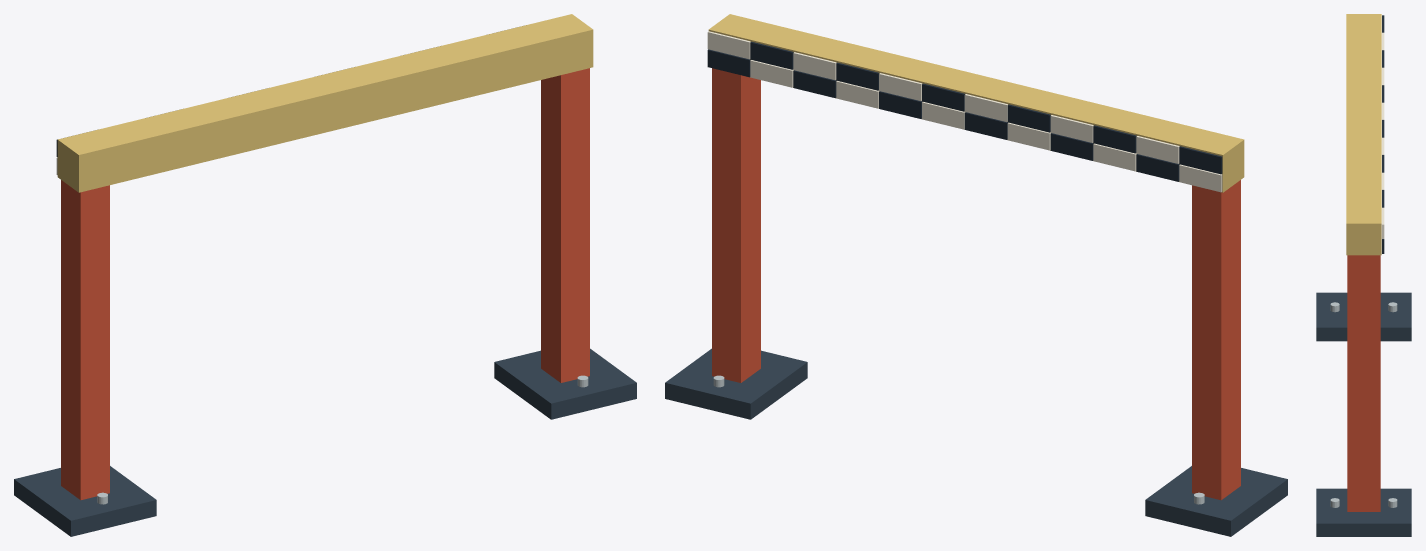
File: checkpoint-gate.glb
3 views of the same model, side by side, from view 1: azimuth 30°, elevation 25°; view 2: azimuth 150°, elevation 25°; view 3: azimuth 270°, elevation 25° (orthographic). The views are drawn at different scales.
Visible parts, largest first — view 1: Top beam, Gate upright (×2), Gate foot (×2); view 2: Gate upright (×2), Checkered stripe (×24), Top beam, Gate foot (×2); view 3: Gate upright, Top beam, Gate foot (×2).
Boxes of the visible parts, left/top/right/bottom form: Top beam: left=57, top=14, right=593, bottom=192; Gate upright (×2): left=61, top=68, right=589, bottom=500; Gate foot (×2): left=14, top=348, right=636, bottom=536; Gate upright (×2): left=712, top=68, right=1240, bottom=500; Checkered stripe (×24): left=707, top=31, right=1222, bottom=192; Top beam: left=708, top=14, right=1244, bottom=192; Gate foot (×2): left=665, top=348, right=1287, bottom=536; Gate upright: left=1347, top=255, right=1380, bottom=511; Top beam: left=1346, top=14, right=1381, bottom=255; Gate foot (×2): left=1316, top=292, right=1411, bottom=536.
Bounding box in the file's own units: 6.6 × 4.04 × 1.15.
